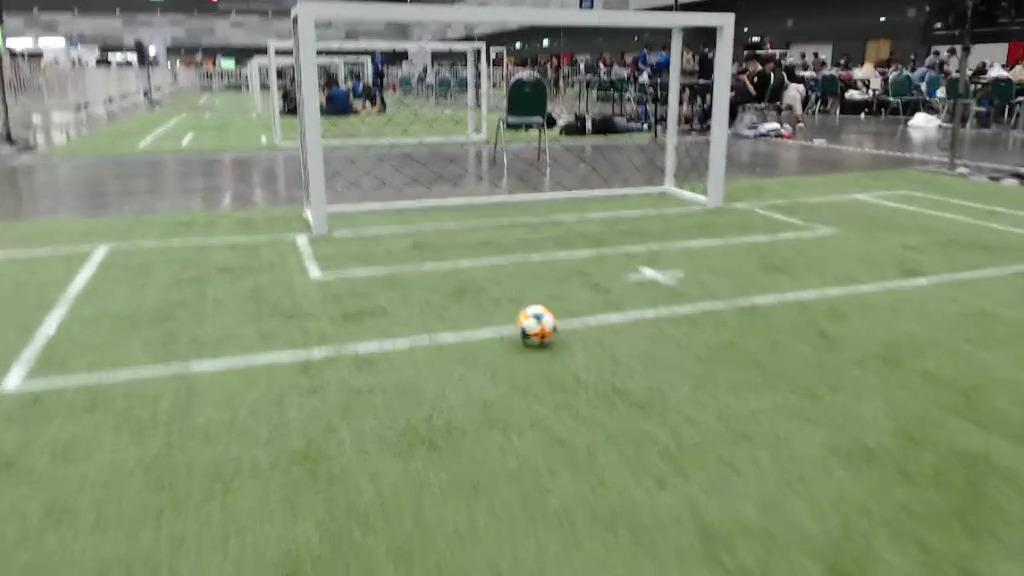ball: (516, 305, 555, 348)
